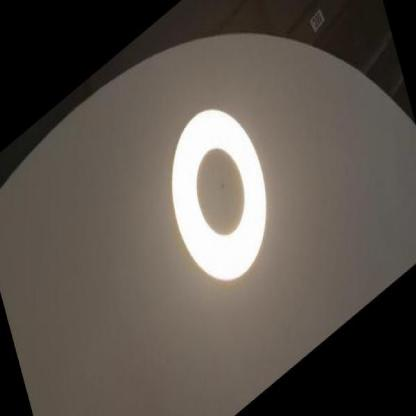light_on: (139, 48, 302, 334)
